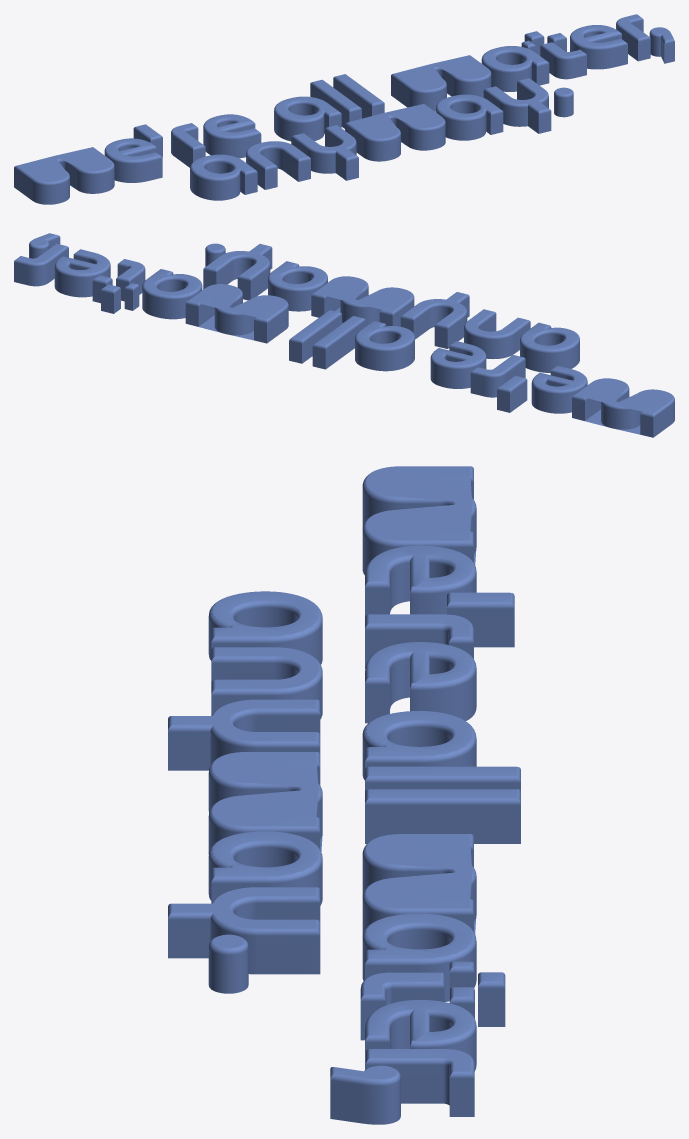
The picture shows the model from 3 angles, top to bottom: view 1: azimuth 30°, elevation 25°; view 2: azimuth 150°, elevation 25°; view 3: azimuth 270°, elevation 25°; orthographic projection. The views are drawn at different scales.
Visible parts, largest first — view 1: typeMesh1; view 2: typeMesh1; view 3: typeMesh1.
Boxes of the visible parts, <box> form: typeMesh1: <box>14,14,674,204</box>; typeMesh1: <box>14,233,674,437</box>; typeMesh1: <box>168,466,520,1124</box>.
Size of the model in its own units: 85.32 by 2.87 by 20.66.
